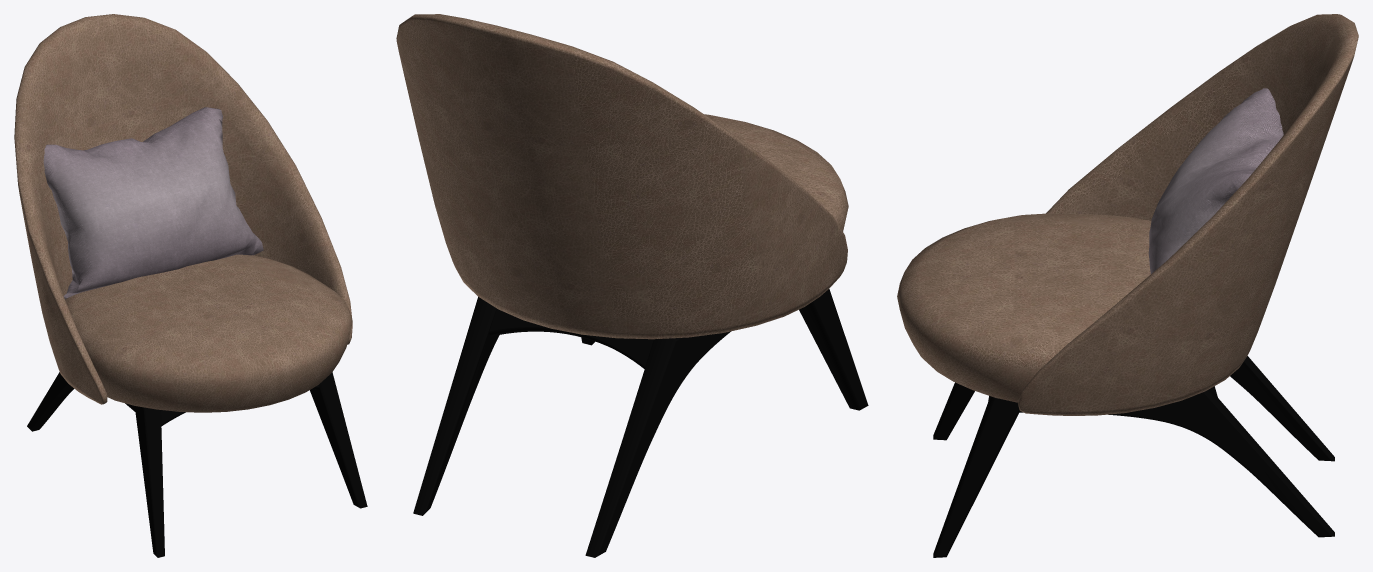
The model's file is CGT_Armchair_075.glb.
3 views of the same model, side by side, from view 1: azimuth 30°, elevation 25°; view 2: azimuth 150°, elevation 25°; view 3: azimuth 270°, elevation 25° (orthographic). The views are drawn at different scales.
Parts seen in each view (by area): view 1: CGT_Armchair_075; view 2: CGT_Armchair_075; view 3: CGT_Armchair_075.
Part boxes in pixels (bbox=[...]): CGT_Armchair_075: bbox=[14, 14, 367, 557]; CGT_Armchair_075: bbox=[396, 14, 868, 557]; CGT_Armchair_075: bbox=[897, 14, 1358, 557].
Bounding box in the file's own units: 0.6551 × 0.8871 × 0.8022.
Materials: 3 (2 with a texture image).
